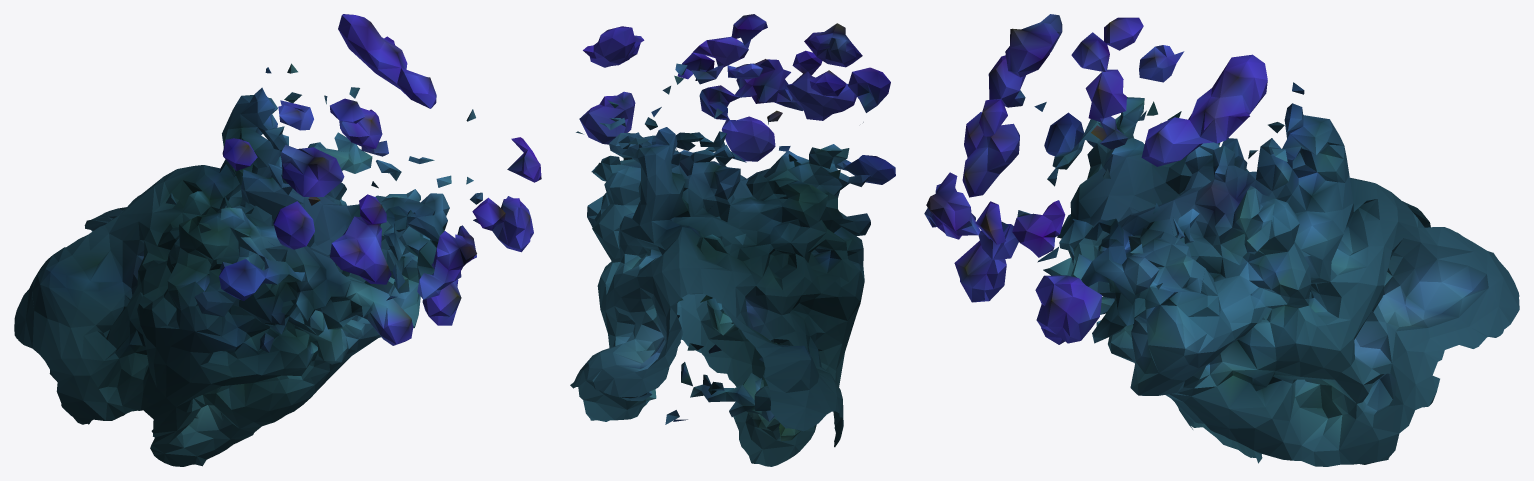
File: echinacea_fbx.fbx
3 views of the same model, side by side, from view 1: azimuth 30°, elevation 25°; view 2: azimuth 150°, elevation 25°; view 3: azimuth 270°, elevation 25° (orthographic). The views are drawn at different scales.
Parts seen in each view (by area): view 1: Model; view 2: Model; view 3: Model.
Boxes of the visible parts, <box> form: Model: <box>14,14,541,466</box>; Model: <box>570,14,895,466</box>; Model: <box>924,14,1519,466</box>.
Bounding box in the file's own units: 2.29 × 2.42 × 2.69.
